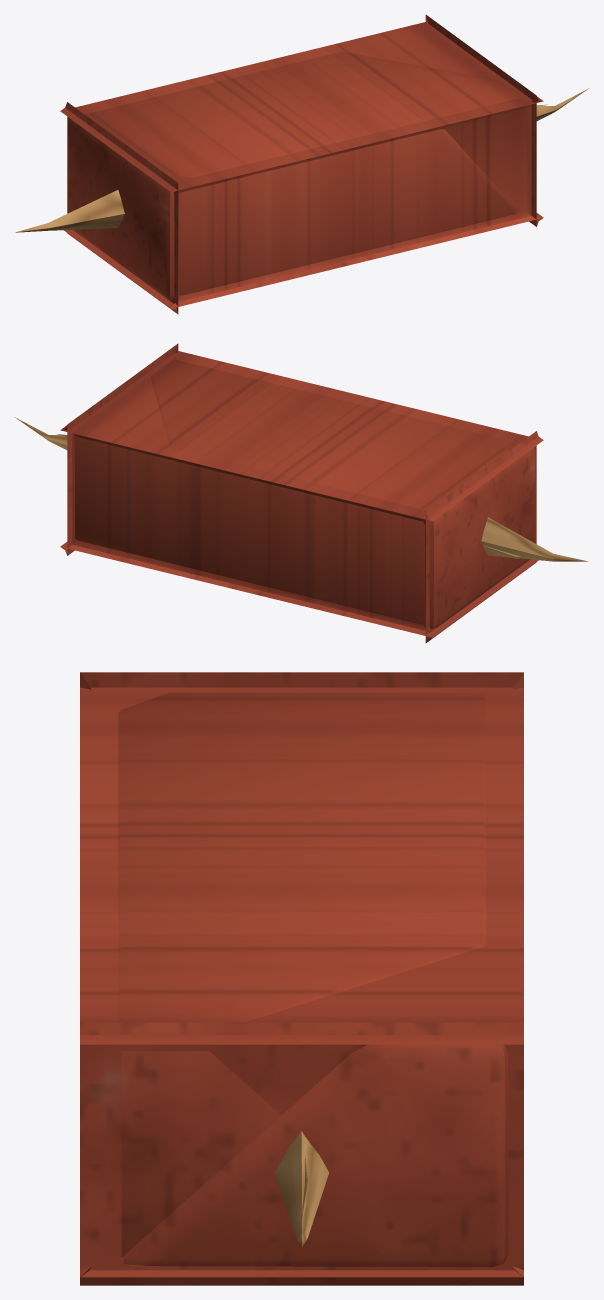
File: debris_pack.glb
3 renders of one model, top to bottom at view 1: azimuth 30°, elevation 25°; view 2: azimuth 150°, elevation 25°; view 3: azimuth 270°, elevation 25°, orthographic. The views are drawn at different scales.
Visible parts, largest first — view 1: Brick_1, Brick_2, Brick_0, Splinter_2; view 2: Brick_1, Brick_2, Brick_0, Splinter_2; view 3: Brick_2, Brick_0, Brick_1, Splinter_2.
Part boxes in pixels (x1=…): Brick_1: x1=68, y1=118, x2=518, y2=299; Brick_2: x1=85, y1=52, x2=520, y2=177; Brick_0: x1=60, y1=14, x2=543, y2=314; Splinter_2: x1=15, y1=88, x2=588, y2=232; Brick_1: x1=75, y1=437, x2=535, y2=628; Brick_2: x1=150, y1=359, x2=508, y2=510; Brick_0: x1=60, y1=343, x2=543, y2=643; Splinter_2: x1=15, y1=417, x2=588, y2=561; Brick_2: x1=118, y1=693, x2=485, y2=1256; Brick_0: x1=80, y1=672, x2=523, y2=1285; Brick_1: x1=123, y1=1044, x2=508, y2=1266; Splinter_2: x1=274, y1=1131, x2=329, y2=1246.
Bounding box in the file's own units: 0.3352 × 0.0732 × 0.1118.
2 materials, 2 textured.
